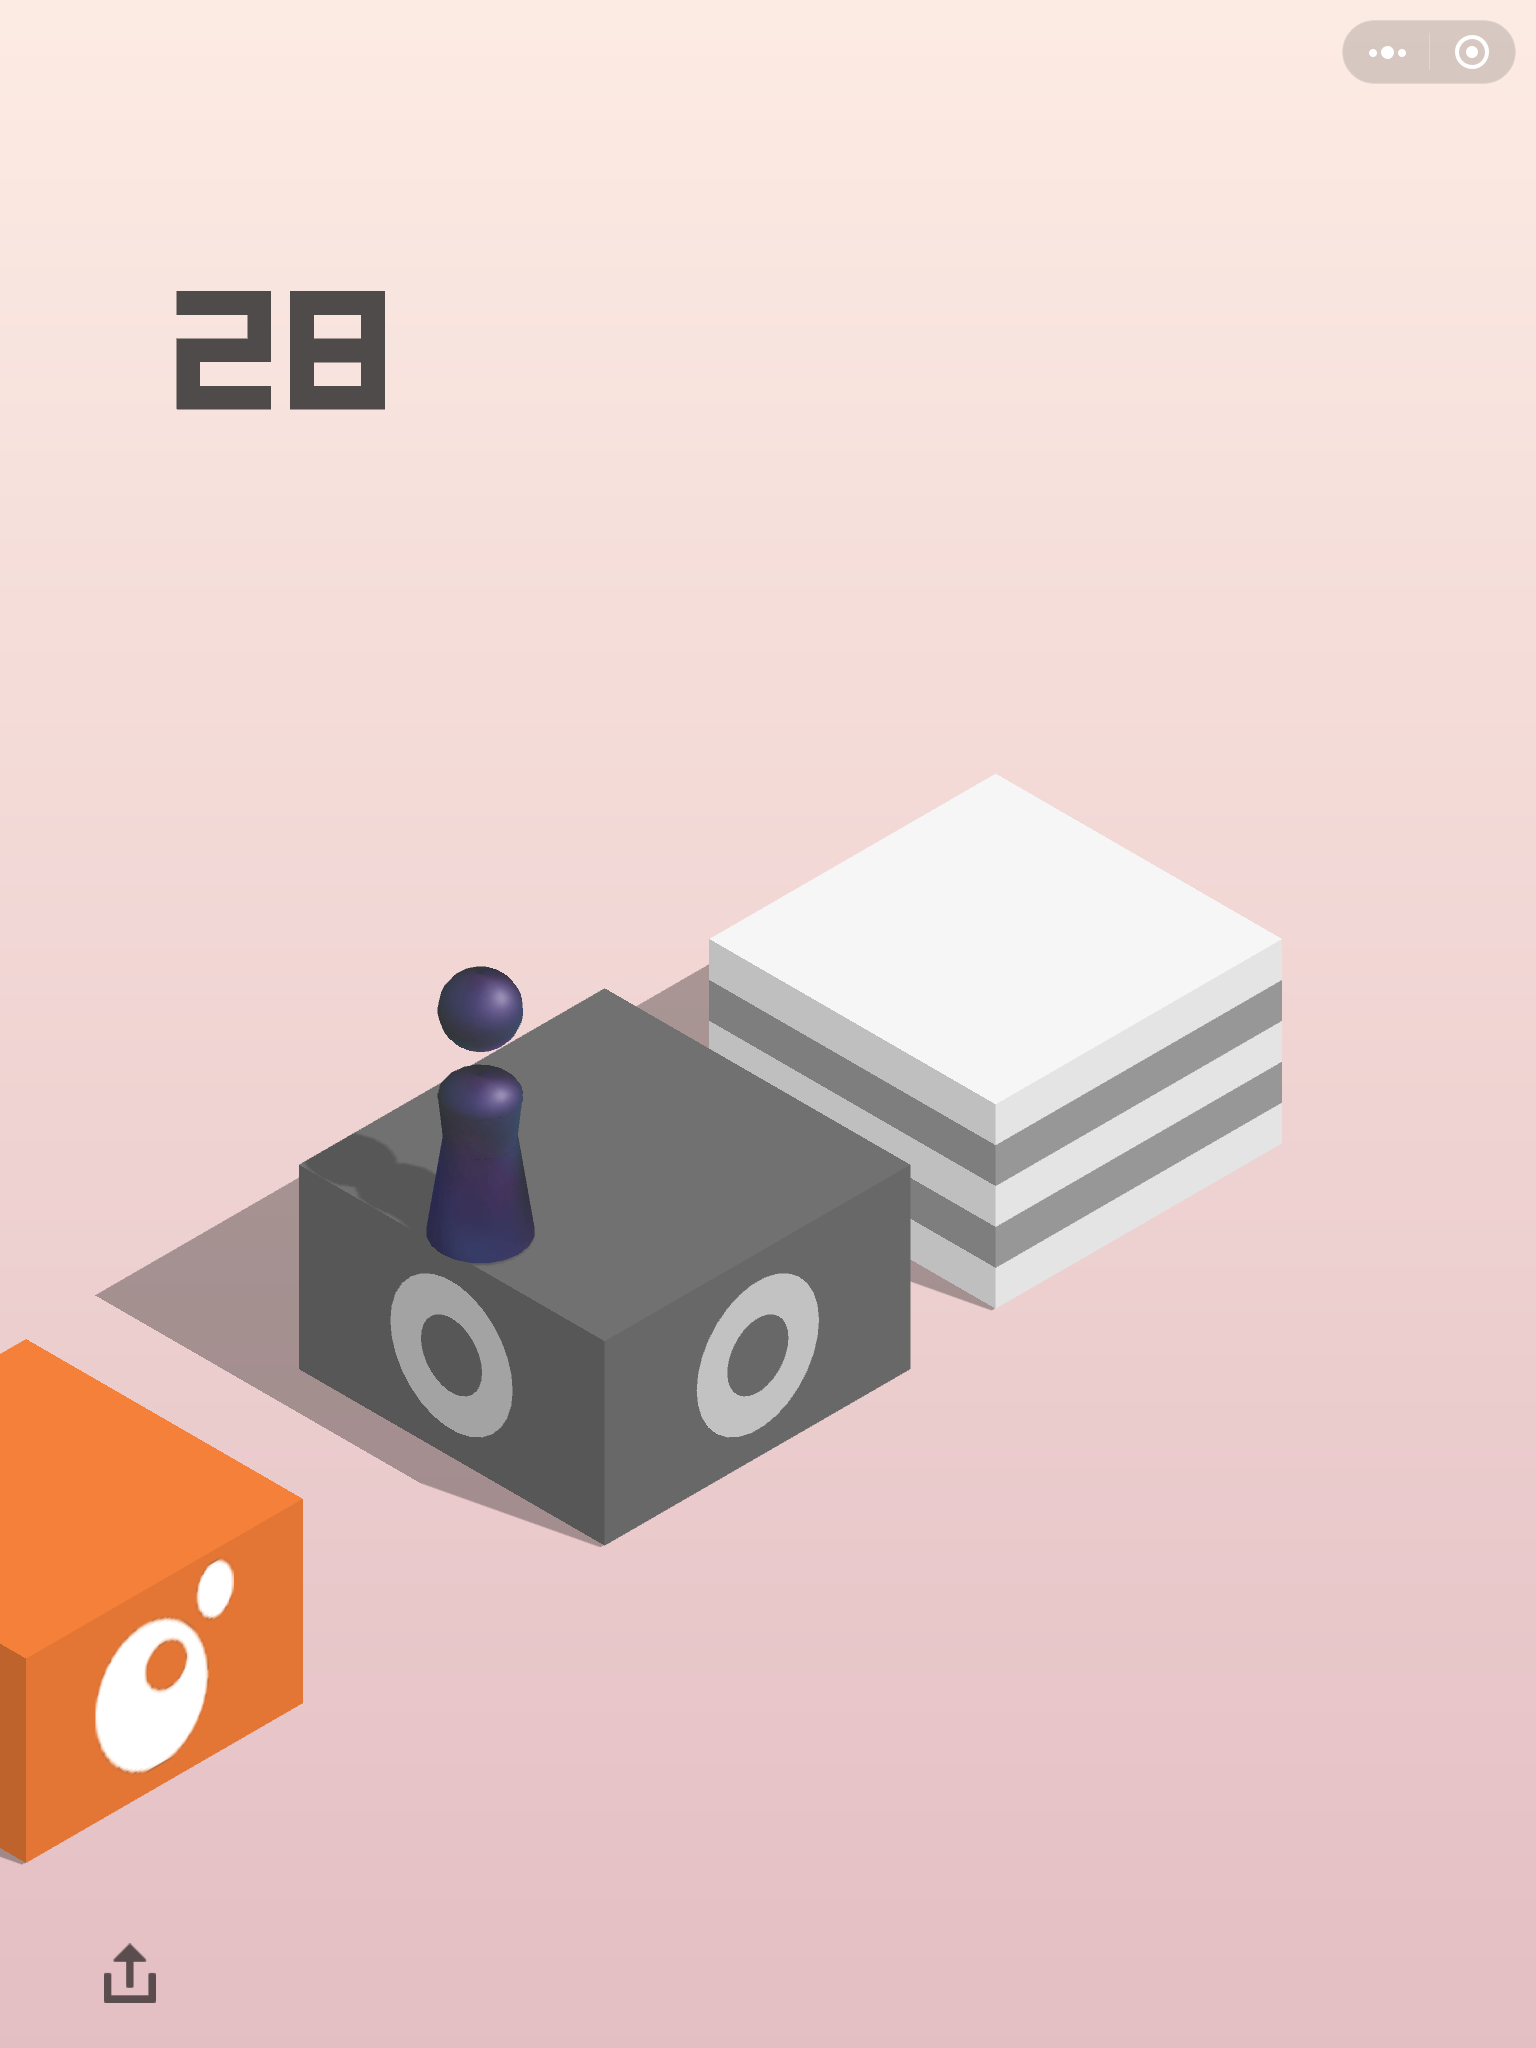f: (292, 987, 918, 1551), (702, 768, 1294, 1314), (2, 1342, 308, 1866)
r: (415, 958, 541, 1271)
